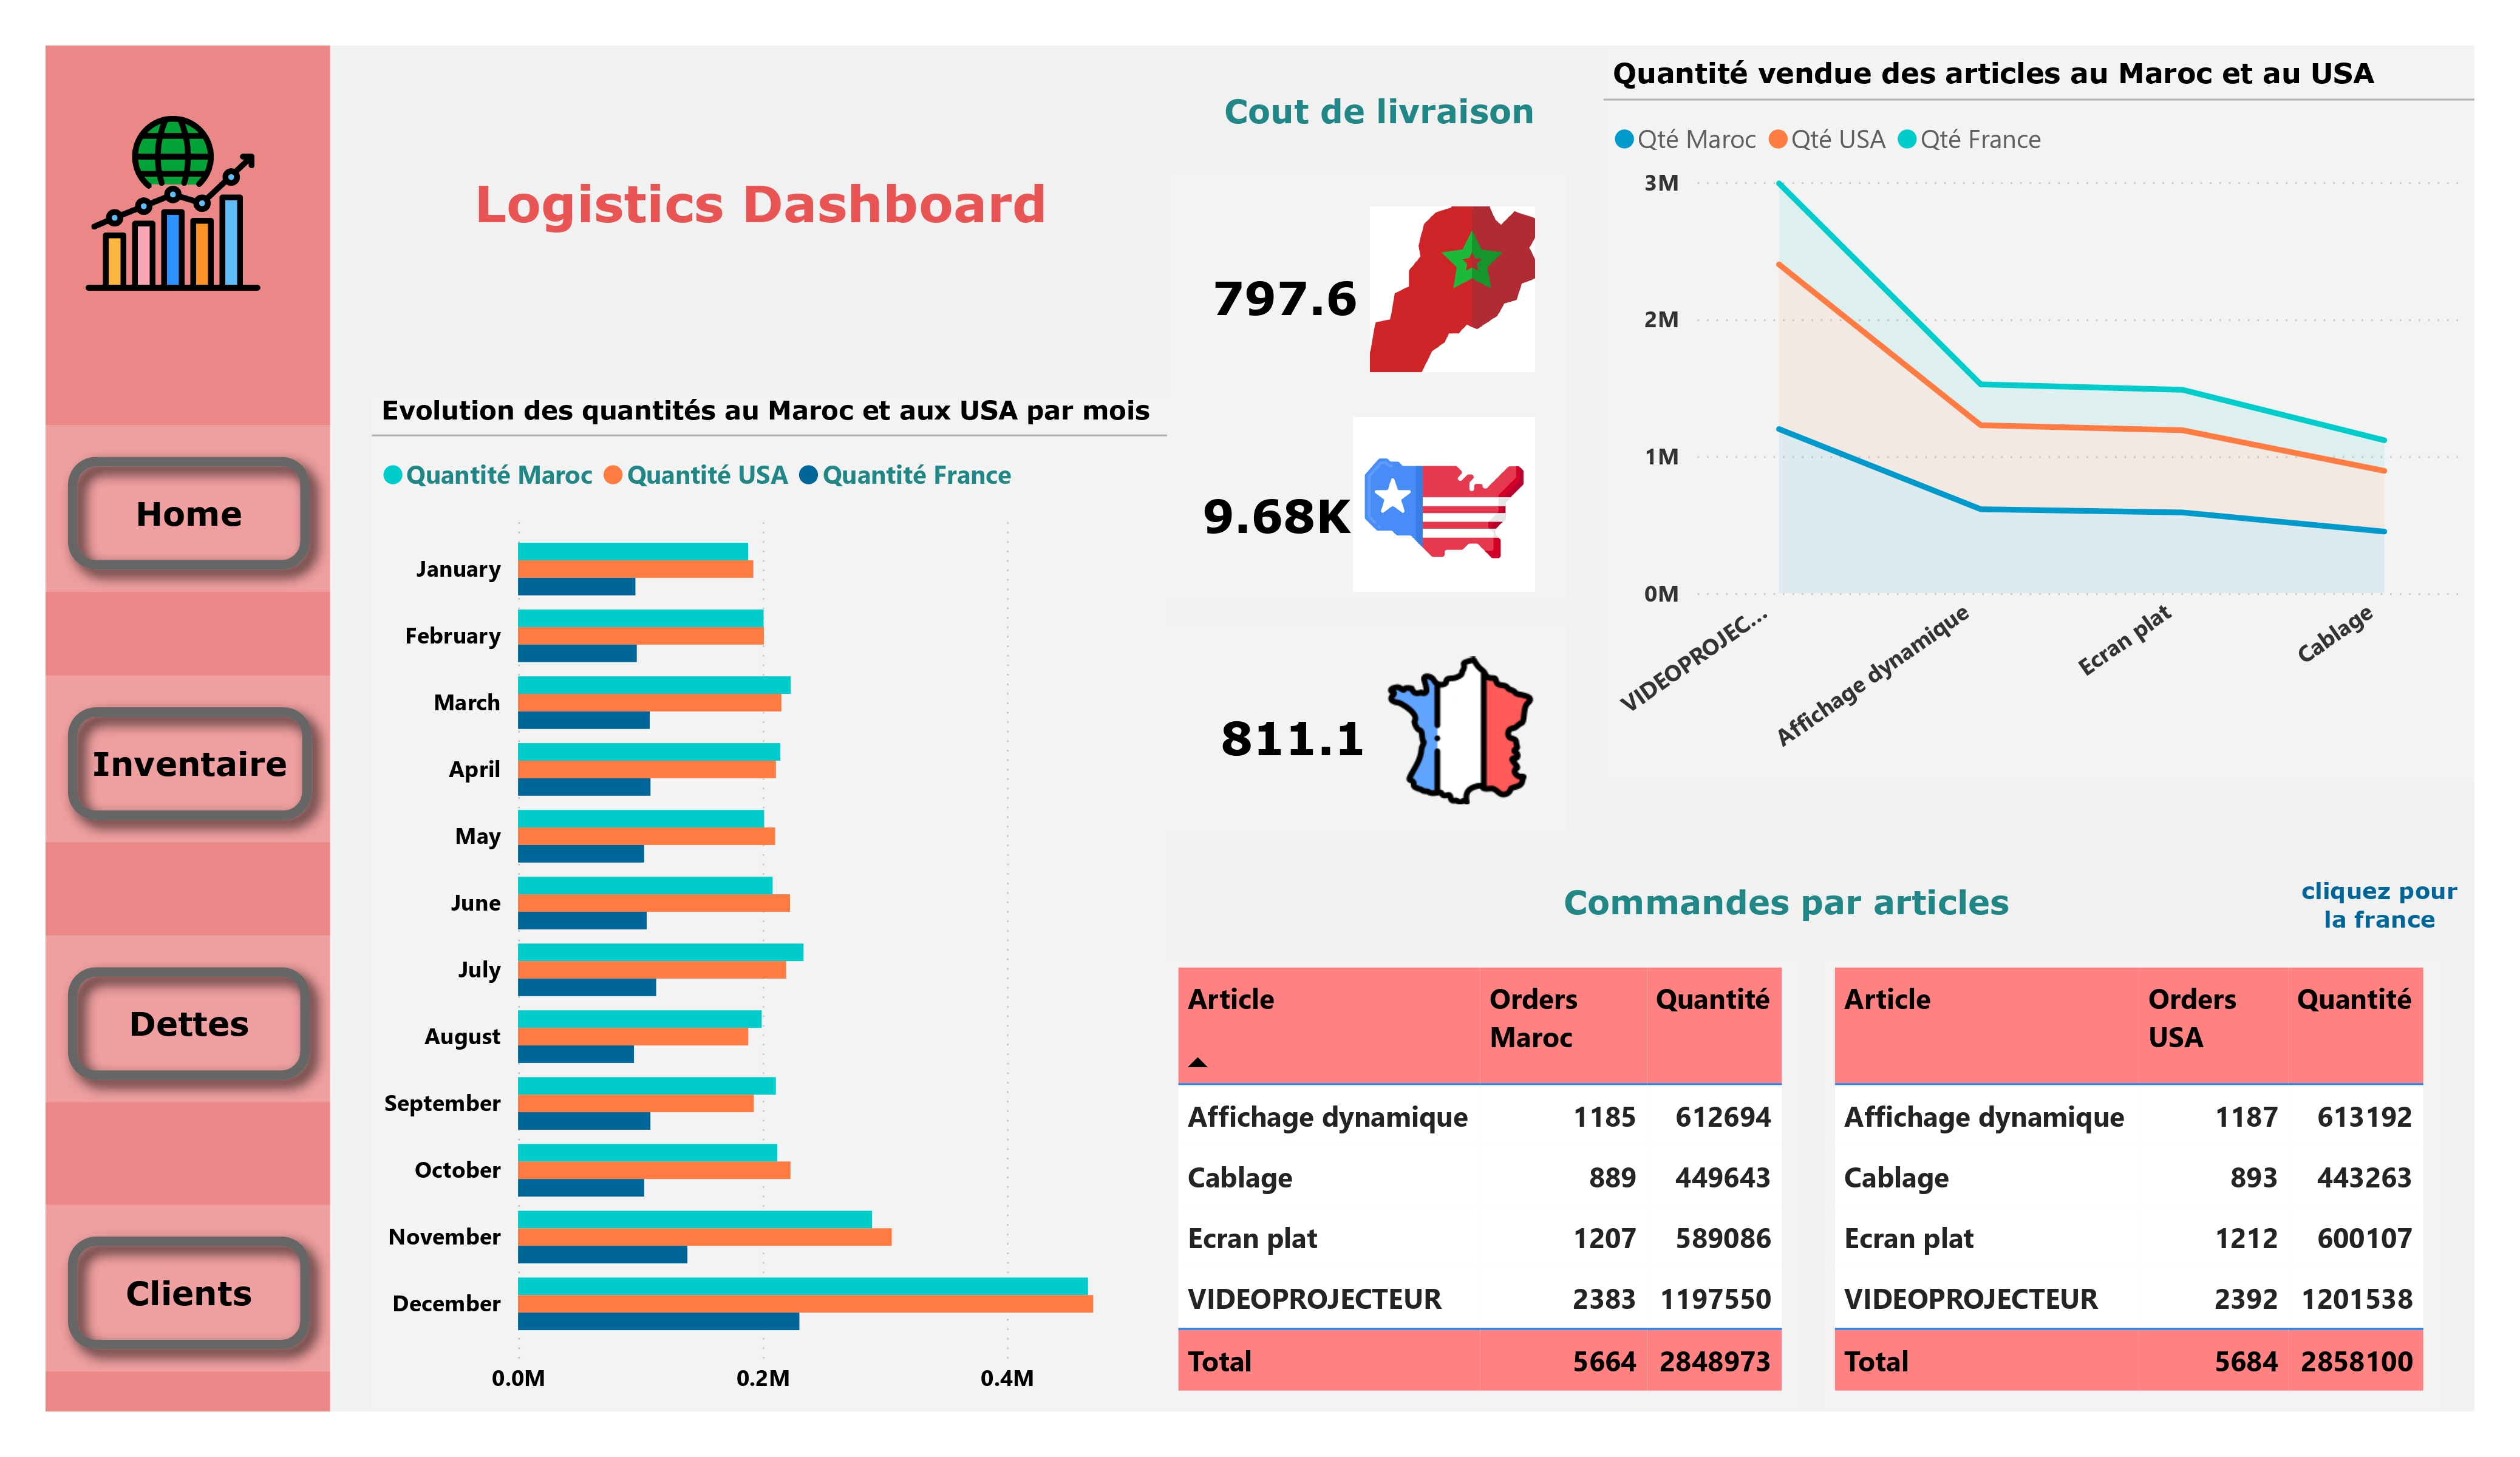

Layout of this report page (visuals, bound fields, positions):
{"tool":"powerbi","page":{"name":"Home","canvas":[1280,720],"ordinal":0},"visuals":[{"type":"shape","box":[640.5,422.2,524.8,59.3],"z":0},{"type":"shape","box":[0,0,574,164.8],"z":1000},{"type":"tableEx","title":"Table-Maroc","fields":{"Values":["Ventes au Maroc.Article","CountNonNull(Ventes au Maroc.Client ID)","Sum(Ventes au Maroc.Quantité)"]},"box":[591.3,481.4,334,238.6],"z":2000},{"type":"stackedAreaChart","title":"Quantité vendue des articles au Maroc et au USA","fields":{"Category":["Article.Article"],"Y":["Sum(Ventes au Maroc.Quantité)","Sum(Ventes au USA.Quantité)","Sum(Ventes France.Quantité)"]},"box":[821.2,0,458.3,387.5],"z":3000},{"type":"tableEx","title":"Table-usa","fields":{"Values":["Ventes au USA.Article","Ventes au USA.Client","Sum(Ventes au USA.Quantité)"]},"box":[936.9,481.4,325.3,238.6],"z":5000},{"type":"actionButton","box":[0,183.6,141.7,88.2],"z":6000},{"type":"actionButton","box":[0,315.2,141.7,88.2],"z":7000},{"type":"actionButton","box":[0,452.5,141.7,91.1],"z":8000},{"type":"actionButton","box":[0,594.2,141.7,88.2],"z":9000},{"type":"clusteredBarChart","title":"Evolution des quantités au Maroc et aux USA par mois","fields":{"Y":["Sum(Ventes au Maroc.Quantité)","Sum(Ventes au USA.Quantité)","Sum(Ventes France.Quantité)"],"Category":["CalendarTable.Month"]},"box":[172,183.6,419.3,536.4],"z":10000},{"type":"cardVisual","fields":{"Data":["Avg(Ventes au Maroc.Cout de livraison)"]},"box":[591.3,68,211.1,111.3],"z":11000},{"type":"cardVisual","fields":{"Data":["Avg(Ventes au USA.Cout de livraison en dollars)"]},"box":[591.3,179.3,211.1,114.2],"z":12000},{"type":"image","box":[8.7,28.9,109.9,108.4],"z":13000},{"type":"shape","box":[591.3,0,211.1,68],"z":14000},{"type":"cardVisual","fields":{"Data":["Avg(Ventes France.Cout de livraison)"]},"box":[591.3,305.1,211.1,109.9],"z":15000},{"type":"actionButton","title":"Button-France","box":[1179.8,432.3,99.8,40.5],"z":16000}]}

Visuals, with their boxes on the page's 1280x720 design canvas (x1, y1, x2, y2). These are canvas units, not pixel positions in the 2520x1457 screenshot, which may show the page scaled, cropped or inside an application window:
shape: [640, 422, 1165, 482]
shape: [0, 0, 574, 165]
"Table-Maroc" tableEx: [591, 481, 925, 720]
"Quantité vendue des articles au Maroc et au USA" stackedAreaChart: [821, 0, 1280, 388]
"Table-usa" tableEx: [937, 481, 1262, 720]
actionButton: [0, 184, 142, 272]
actionButton: [0, 315, 142, 403]
actionButton: [0, 452, 142, 544]
actionButton: [0, 594, 142, 682]
"Evolution des quantités au Maroc et aux USA par mois" clusteredBarChart: [172, 184, 591, 720]
cardVisual - Avg(Ventes au Maroc.Cout de livraison): [591, 68, 802, 179]
cardVisual - Avg(Ventes au USA.Cout de livraison en dollars): [591, 179, 802, 294]
image: [9, 29, 119, 137]
shape: [591, 0, 802, 68]
cardVisual - Avg(Ventes France.Cout de livraison): [591, 305, 802, 415]
"Button-France" actionButton: [1180, 432, 1280, 473]
